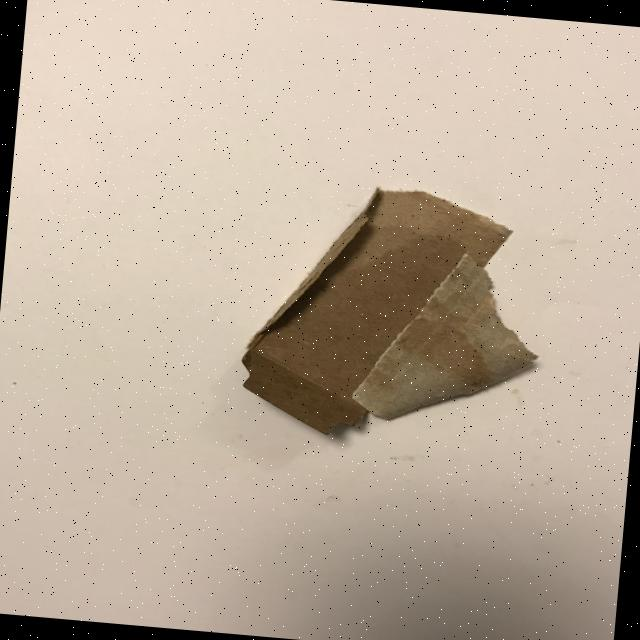paper: (235, 174, 552, 453), (348, 242, 547, 433)
